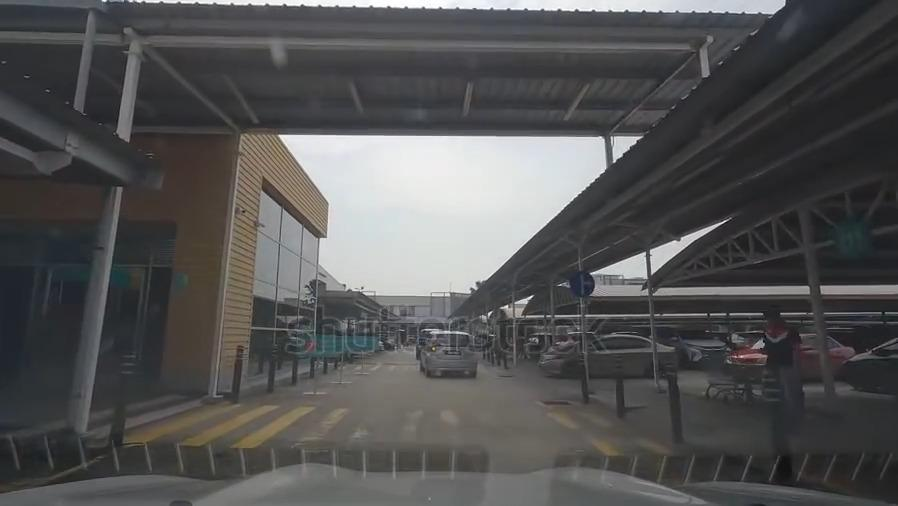car: (728, 328, 853, 378), (537, 333, 678, 377), (656, 321, 729, 363), (419, 328, 479, 379), (844, 334, 898, 387), (415, 327, 442, 359), (729, 327, 758, 347)
manhole: (533, 391, 574, 412), (499, 371, 516, 384)
pedestrian: (123, 406, 655, 439), (325, 358, 503, 379)
person: (756, 306, 808, 420)
